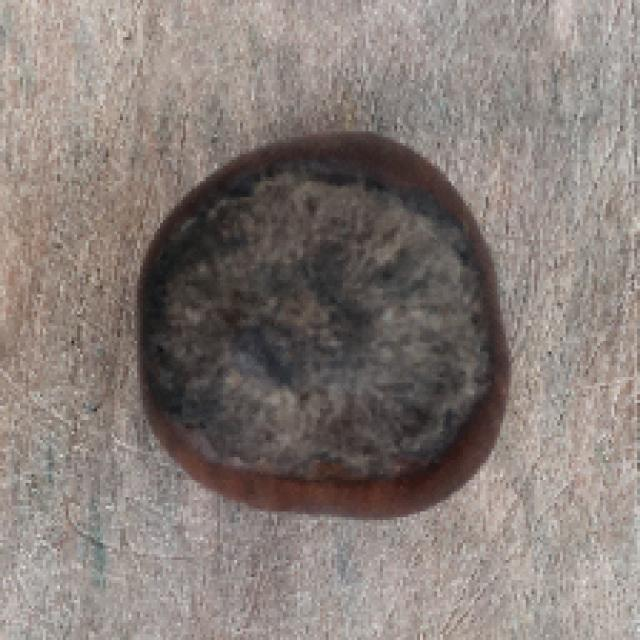damagedHazelnut: (138, 124, 518, 520)
